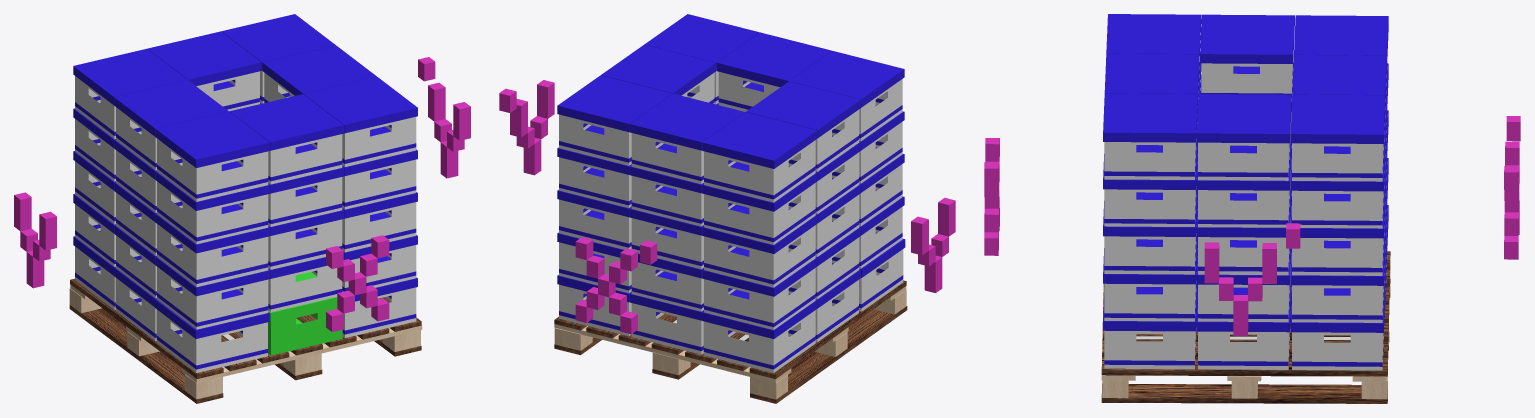
The model's file is caja211.gltf.
The picture shows the model from 3 angles, left to right: view 1: azimuth 30°, elevation 25°; view 2: azimuth 150°, elevation 25°; view 3: azimuth 270°, elevation 25°; orthographic projection. The views are drawn at different scales.
Visible parts, largest first — view 1: Cube.031_1, Cube.026_1, Cube.033_1, Cube.032_1, Cube.029_1, Cube.030_1, Cube.027_1, Cube.005_0, Cube.031_0, Cube.020_0, Cube.039_0, Cube.012_0 (+53 smaller); view 2: Cube.029_1, Cube.032_1, Cube.028_1, Cube.033_1, Cube.030_1, Cube.031_1, Cube.027_1, Cube.007_0, Cube.022_0, Cube.029_0, Cube.037_0, Cube.014_0 (+54 smaller); view 3: Cube.026_1, Cube.027_1, Cube.028_1, Cube.030_1, Cube055, Cube.029_1, Cube.033_1, Cube.031_1, Cube.032_1, Cube.003_0, Cube.001_0, Cube.002_0 (+33 smaller).
Boxes of the visible parts, <box> form: Cube.031_1: <box>155,111,269,198</box>; Cube.026_1: <box>303,77,417,163</box>; Cube.033_1: <box>229,94,343,181</box>; Cube.032_1: <box>147,31,261,109</box>; Cube.029_1: <box>73,48,187,135</box>; Cube.030_1: <box>114,80,228,167</box>; Cube.027_1: <box>262,45,376,102</box>; Cube.005_0: <box>156,309,267,372</box>; Cube.031_0: <box>157,138,268,201</box>; Cube.020_0: <box>157,224,268,286</box>; Cube.039_0: <box>157,181,268,244</box>; Cube.012_0: <box>157,267,268,329</box>; Cube.029_1: <box>702,112,817,199</box>; Cube.032_1: <box>629,93,744,180</box>; Cube.028_1: <box>557,75,672,162</box>; Cube.033_1: <box>717,32,831,109</box>; Cube.030_1: <box>746,81,860,168</box>; Cube.031_1: <box>789,51,904,138</box>; Cube.027_1: <box>601,44,716,103</box>; Cube.007_0: <box>703,310,815,372</box>; Cube.022_0: <box>704,225,815,287</box>; Cube.029_0: <box>704,140,815,202</box>; Cube.037_0: <box>704,183,815,244</box>; Cube.014_0: <box>704,268,815,329</box>; Cube.026_1: <box>1103,93,1197,176</box>; Cube.027_1: <box>1196,94,1291,177</box>; Cube.028_1: <box>1290,94,1385,177</box>; Cube.030_1: <box>1200,14,1294,97</box>; Cube055: <box>1101,384,1387,403</box>; Cube.029_1: <box>1294,15,1388,98</box>; Cube.033_1: <box>1104,53,1199,130</box>; Cube.031_1: <box>1106,14,1201,89</box>; Cube.032_1: <box>1292,55,1386,137</box>; Cube.003_0: <box>1292,332,1383,370</box>; Cube.001_0: <box>1104,328,1196,369</box>; Cube.002_0: <box>1198,329,1290,369</box>.
Size of the model in its own units: 4.23 by 2.33 by 4.23.
82 materials, 2 textured.
